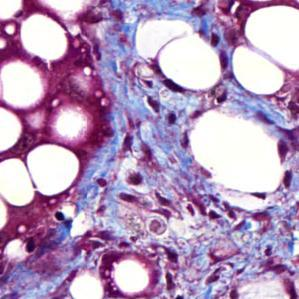steatosis: (27, 142, 83, 196), (18, 11, 71, 66)
